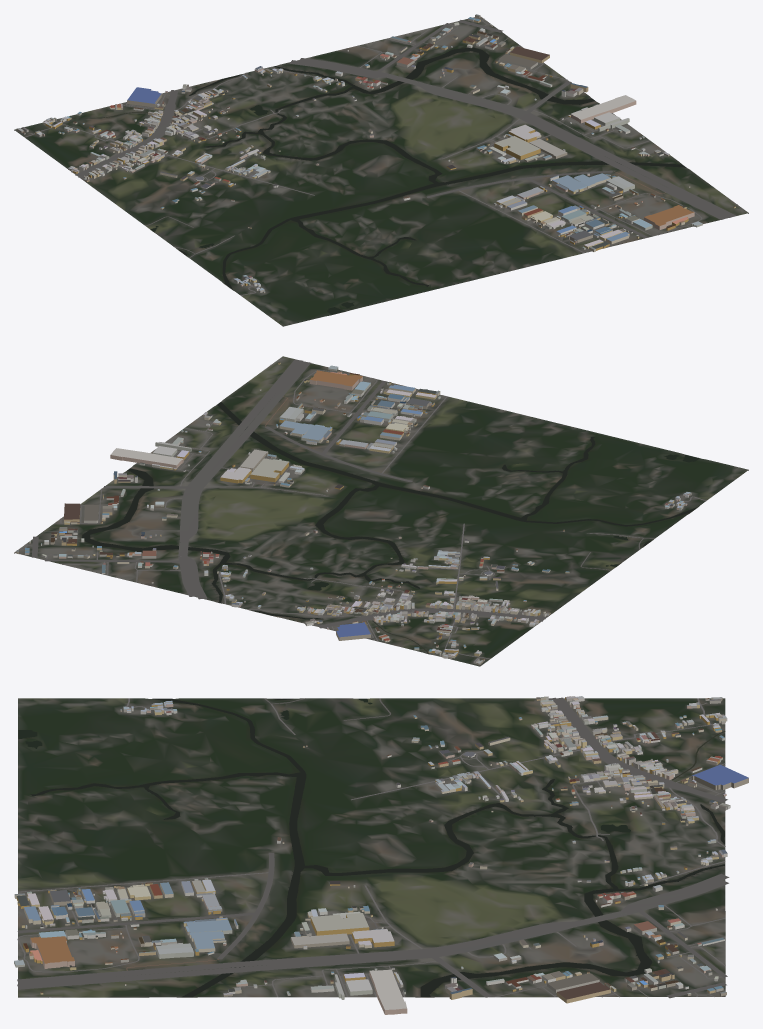
3 renders of one model, top to bottom at view 1: azimuth 30°, elevation 25°; view 2: azimuth 150°, elevation 25°; view 3: azimuth 270°, elevation 25°, orthographic. The views are drawn at different scales.
Visible parts, largest first — view 1: ground, buildings, roads, water; view 2: ground, buildings, roads, water; view 3: ground, buildings, roads, water.
Boxes of the visible parts, box(x1,y1,x2,y2) form: ground: box(14, 17, 748, 326); buildings: box(16, 14, 735, 292); roads: box(24, 18, 737, 295); water: box(72, 47, 685, 314); ground: box(14, 356, 748, 666); buildings: box(16, 362, 691, 665); roads: box(18, 359, 706, 659); water: box(82, 402, 699, 653); ground: box(18, 698, 725, 997); buildings: box(14, 696, 748, 1014); roads: box(17, 697, 729, 998); water: box(18, 698, 725, 997).
Size of the model in its own units: 1485 by 20.3 by 1455.
